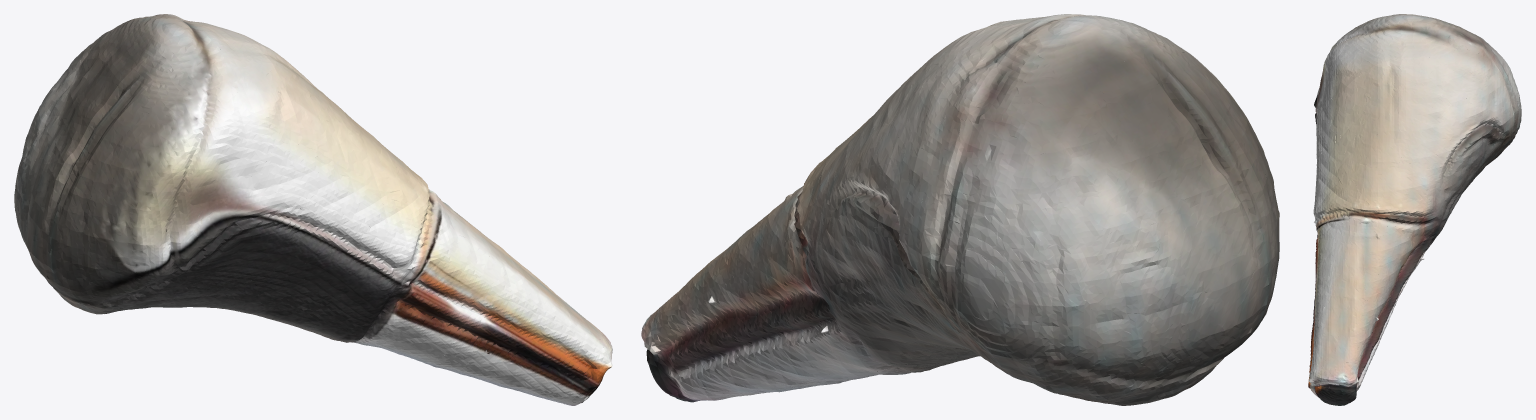
File: shifter-knob-for-rav4.glb
3 views of the same model, side by side, from view 1: azimuth 30°, elevation 25°; view 2: azimuth 150°, elevation 25°; view 3: azimuth 270°, elevation 25° (orthographic). The views are drawn at different scales.
Parts seen in each view (by area): view 1: geometry_0; view 2: geometry_0; view 3: geometry_0.
Part boxes in pixels (box(x1,y1,x2,y2)): geometry_0: box(14, 14, 612, 405); geometry_0: box(641, 14, 1279, 405); geometry_0: box(1308, 14, 1521, 405).
Bounding box in the file's own units: 0.9323 × 0.712 × 0.4986.
1 material, 1 textured.
